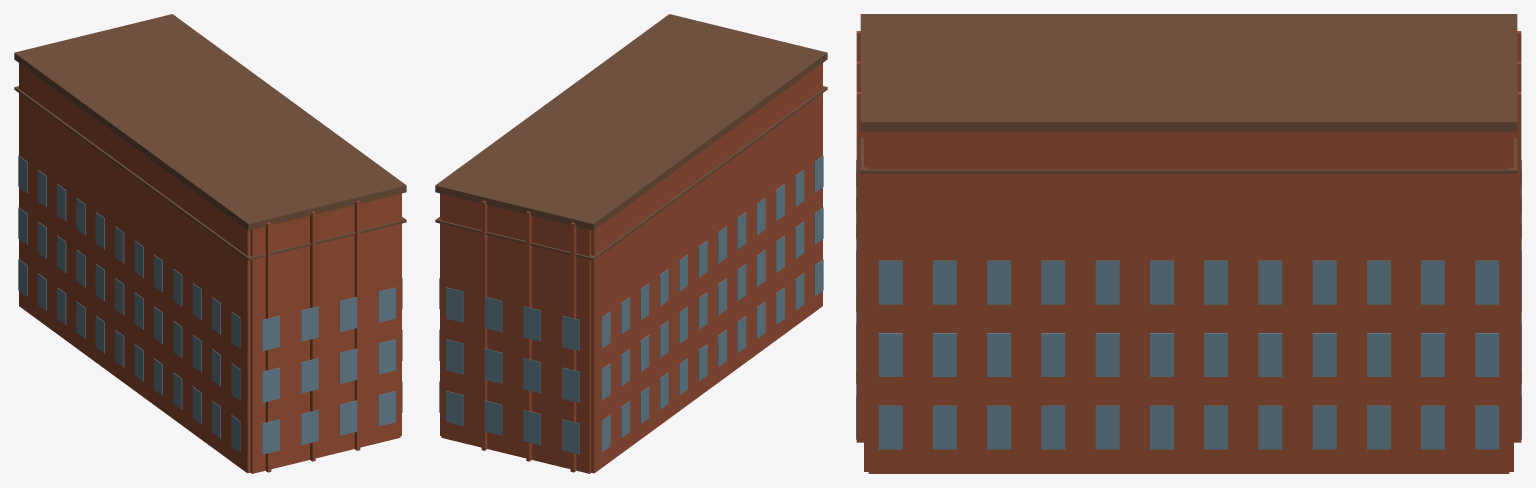
The model's file is KOL_T1_SONAR__Guest_Wing_3.fbx.
3 views of the same model, side by side, from view 1: azimuth 30°, elevation 25°; view 2: azimuth 150°, elevation 25°; view 3: azimuth 270°, elevation 25° (orthographic). The views are drawn at different scales.
Visible parts, largest first — view 1: KOL_T1_SONAR__Guest_Wing_3__KOL_T1_Terra, KOL_T1_SONAR__Guest_Wing_3__KOL_T1_Louvre, KOL_T1_SONAR__Guest_Wing_3__KOL_T1_GlassBlue, KOL_T1_SONAR__Guest_Wing_3__KOL_T1_WarmWindow; view 2: KOL_T1_SONAR__Guest_Wing_3__KOL_T1_Terra, KOL_T1_SONAR__Guest_Wing_3__KOL_T1_Louvre, KOL_T1_SONAR__Guest_Wing_3__KOL_T1_GlassBlue, KOL_T1_SONAR__Guest_Wing_3__KOL_T1_WarmWindow; view 3: KOL_T1_SONAR__Guest_Wing_3__KOL_T1_Terra, KOL_T1_SONAR__Guest_Wing_3__KOL_T1_Louvre, KOL_T1_SONAR__Guest_Wing_3__KOL_T1_GlassBlue, KOL_T1_SONAR__Guest_Wing_3__KOL_T1_WarmWindow.
Boxes of the visible parts, left/top/right/bottom form: KOL_T1_SONAR__Guest_Wing_3__KOL_T1_Terra: left=19, top=63, right=401, bottom=473; KOL_T1_SONAR__Guest_Wing_3__KOL_T1_Louvre: left=14, top=14, right=406, bottom=260; KOL_T1_SONAR__Guest_Wing_3__KOL_T1_GlassBlue: left=18, top=155, right=402, bottom=454; KOL_T1_SONAR__Guest_Wing_3__KOL_T1_WarmWindow: left=37, top=212, right=402, bottom=435; KOL_T1_SONAR__Guest_Wing_3__KOL_T1_Terra: left=440, top=63, right=822, bottom=473; KOL_T1_SONAR__Guest_Wing_3__KOL_T1_Louvre: left=435, top=14, right=827, bottom=260; KOL_T1_SONAR__Guest_Wing_3__KOL_T1_GlassBlue: left=439, top=155, right=823, bottom=452; KOL_T1_SONAR__Guest_Wing_3__KOL_T1_WarmWindow: left=446, top=254, right=687, bottom=454; KOL_T1_SONAR__Guest_Wing_3__KOL_T1_Terra: left=856, top=31, right=1521, bottom=473; KOL_T1_SONAR__Guest_Wing_3__KOL_T1_Louvre: left=860, top=14, right=1517, bottom=173; KOL_T1_SONAR__Guest_Wing_3__KOL_T1_GlassBlue: left=856, top=159, right=1521, bottom=449; KOL_T1_SONAR__Guest_Wing_3__KOL_T1_WarmWindow: left=856, top=159, right=1521, bottom=449.
Size of the model in its own units: 32.9 by 48.65 by 83.14.
